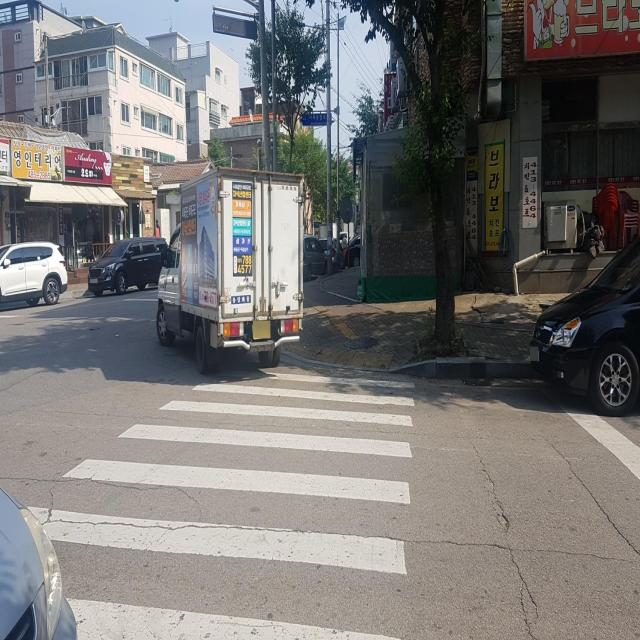횡단보도: (25, 365, 417, 640)
